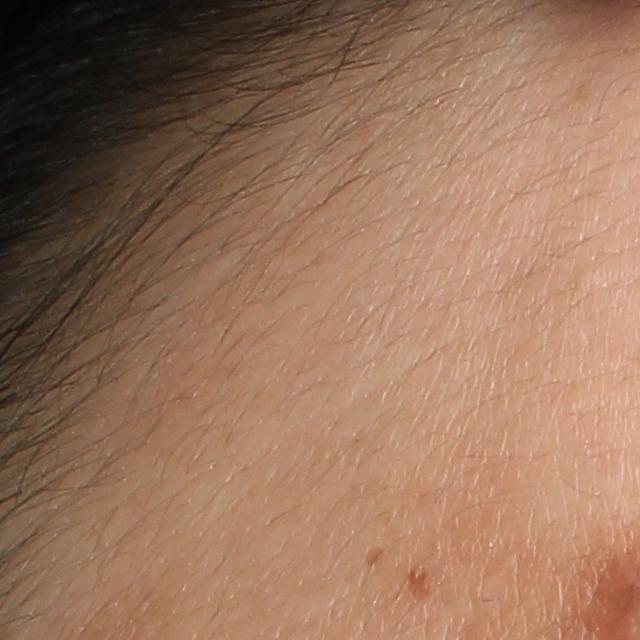nevus: (406, 569, 431, 603)
